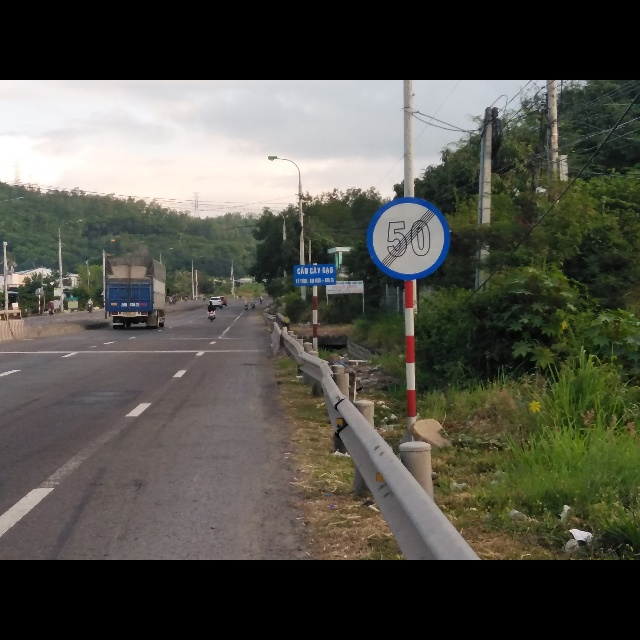Hết hạn chế tốc độ tối đa 50km/h: (366, 194, 453, 282)
